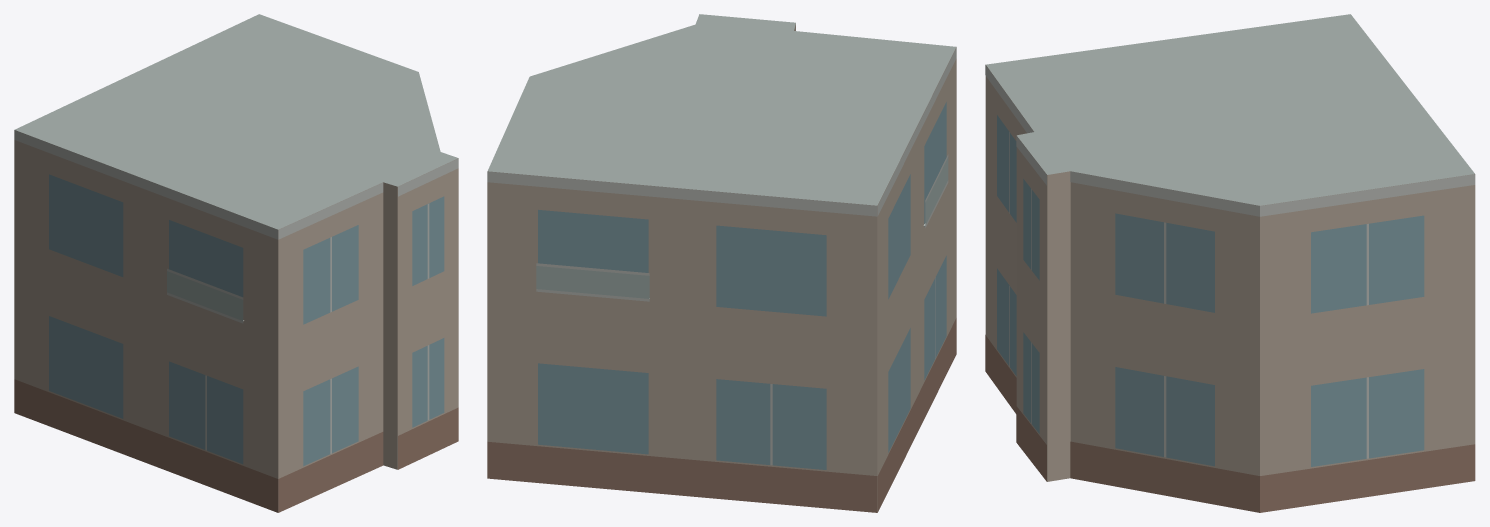
The model's file is survey-upis-32504055.glb.
The picture shows the model from 3 angles, left to right: view 1: azimuth 30°, elevation 25°; view 2: azimuth 150°, elevation 25°; view 3: azimuth 270°, elevation 25°; orthographic projection. The views are drawn at different scales.
Visible parts, largest first — view 1: survey-upis-32504055.tmp; view 2: survey-upis-32504055.tmp; view 3: survey-upis-32504055.tmp.
Boxes of the visible parts, x1,y1,x2,y2 form: survey-upis-32504055.tmp: [14, 14, 458, 512]; survey-upis-32504055.tmp: [487, 14, 956, 512]; survey-upis-32504055.tmp: [985, 14, 1475, 512].
Size of the model in its own units: 9.19 by 6.85 by 9.91.
